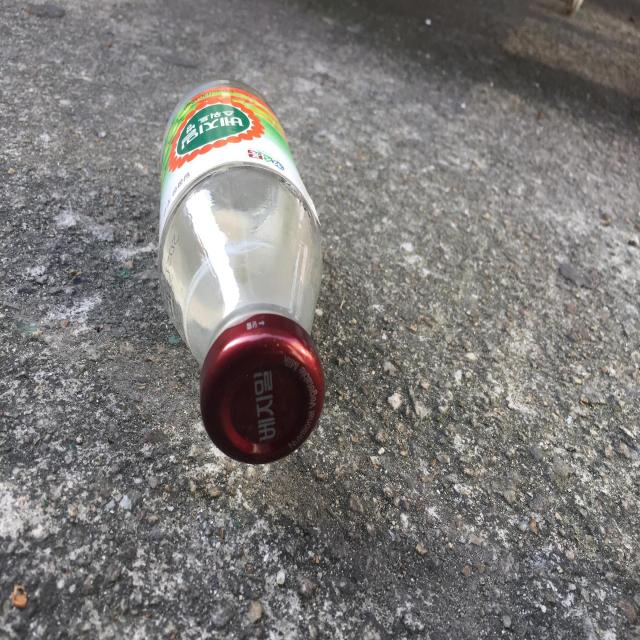glass: (158, 80, 325, 464)
